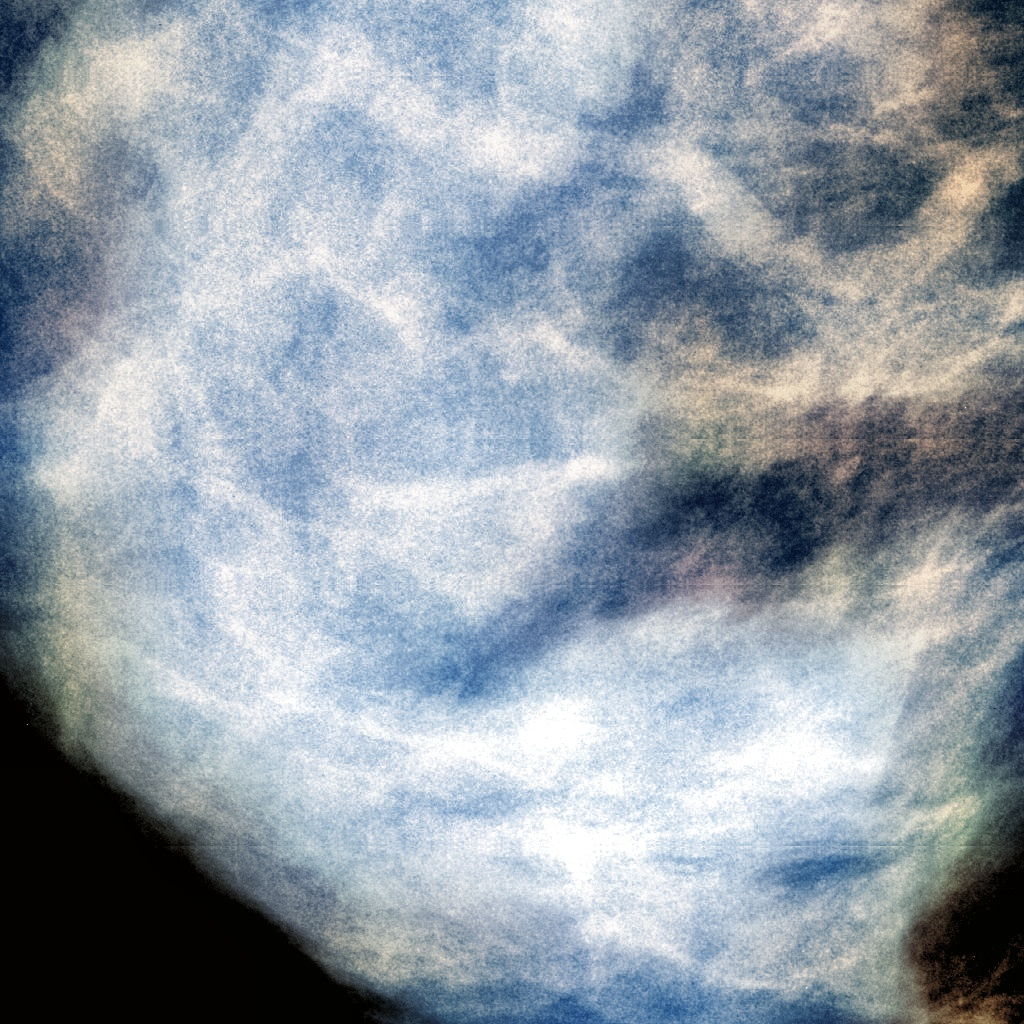tumor: (333, 362, 691, 662)
